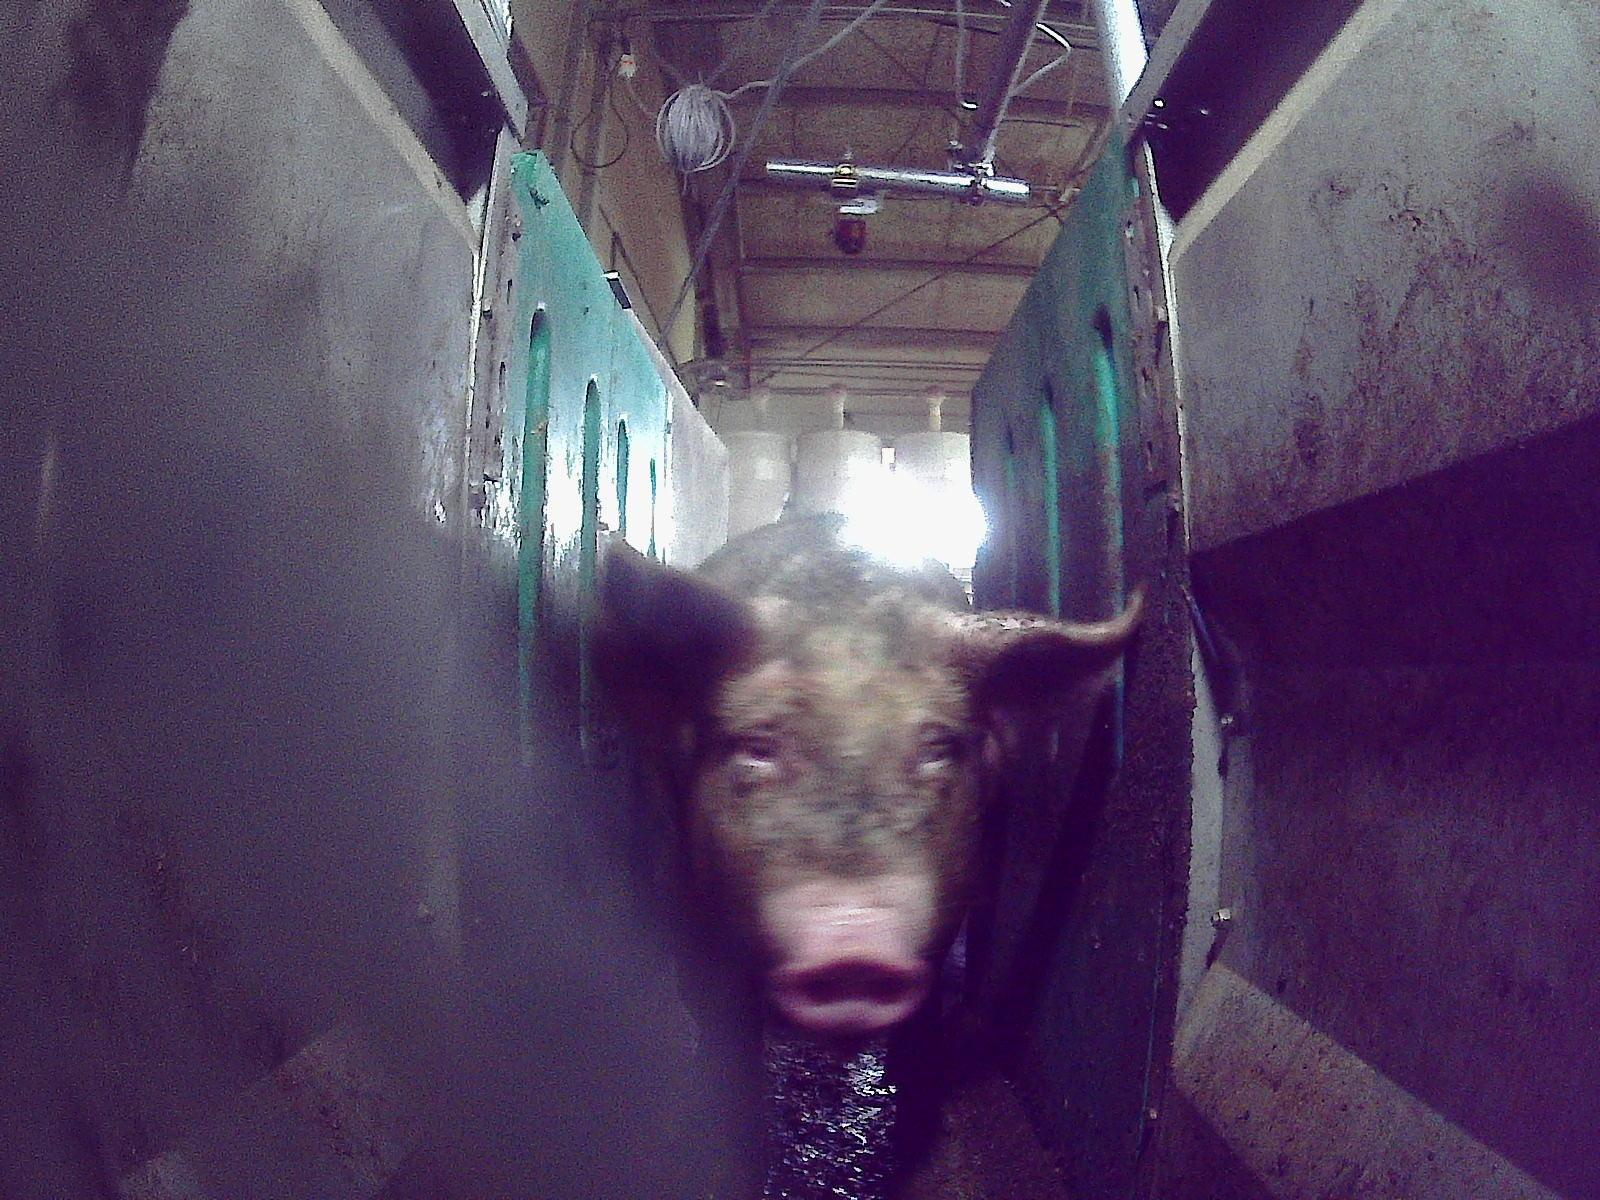Face: (683, 596, 975, 1035)
